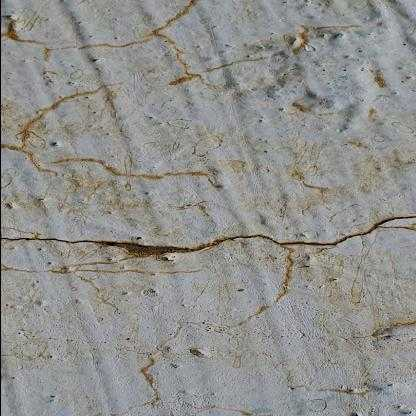crack: (0, 212, 416, 254)
